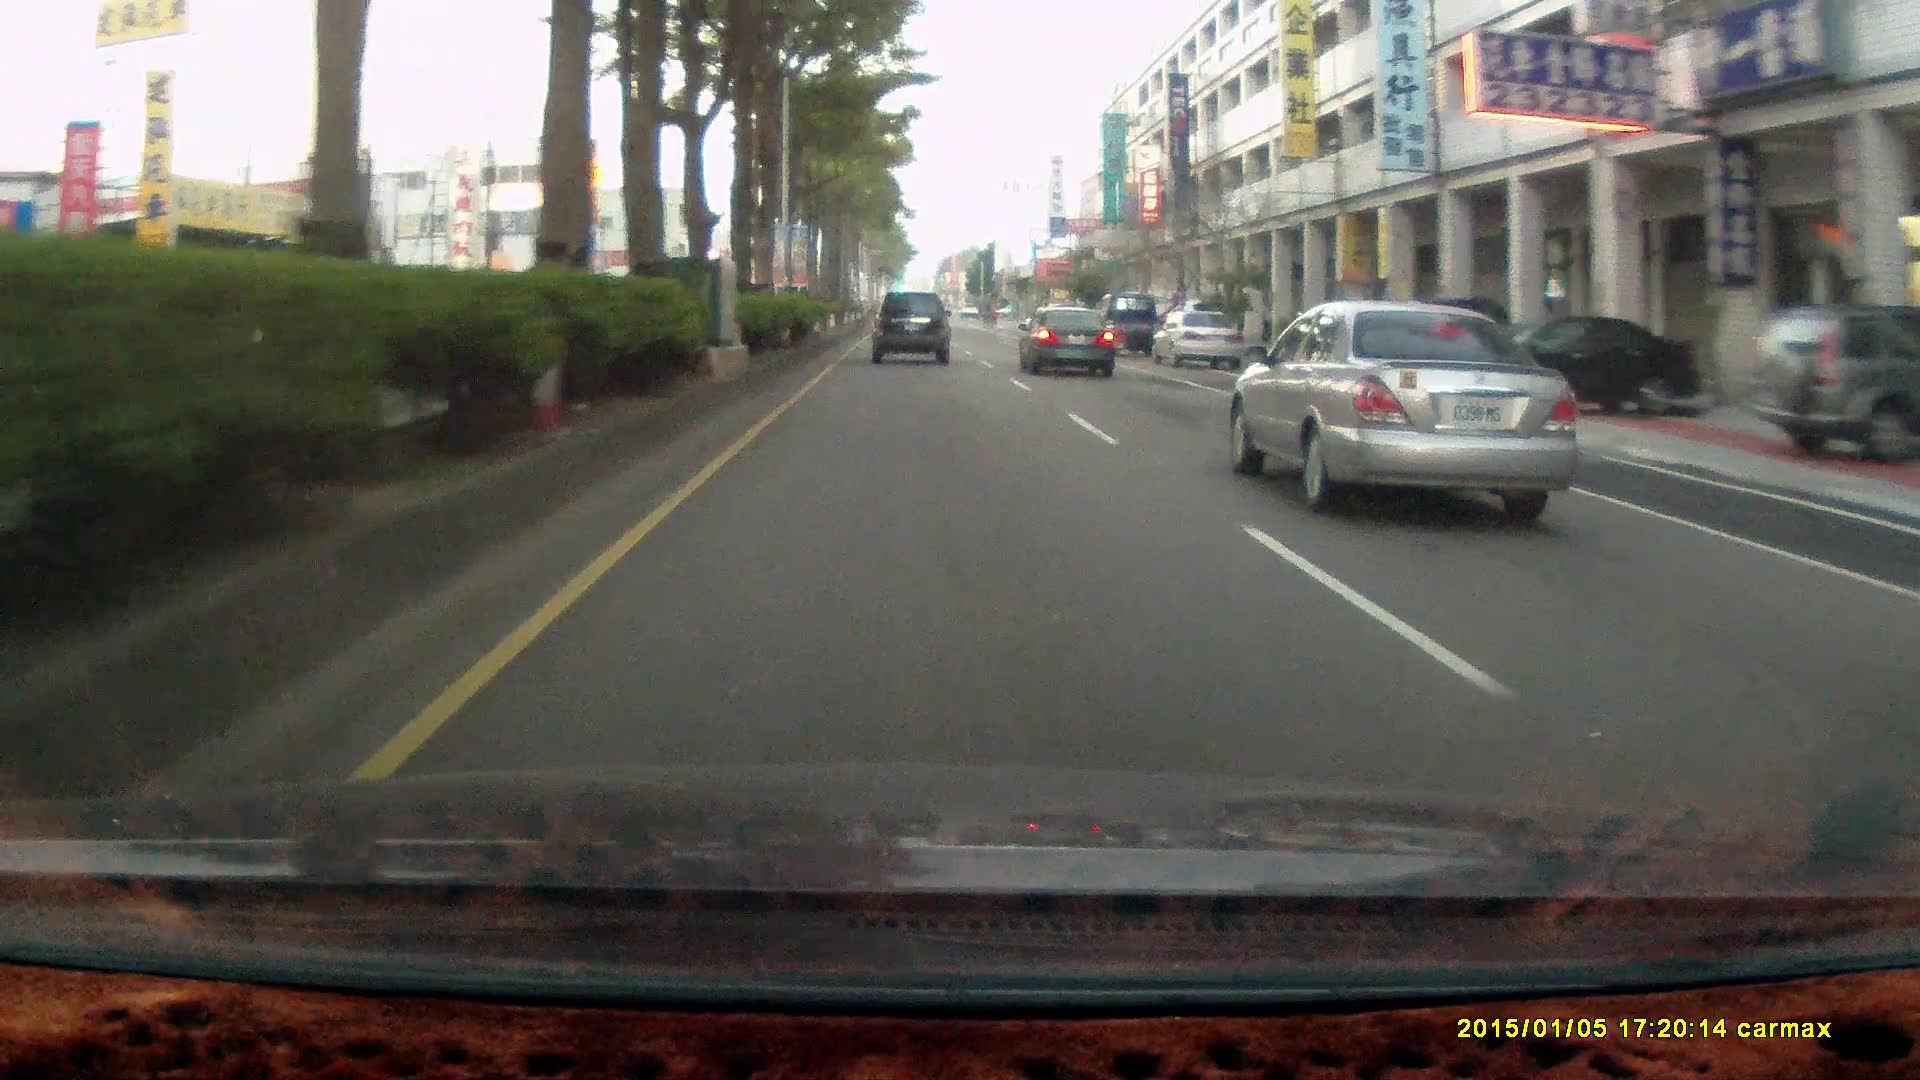vehicle: (1226, 295, 1586, 520), (1429, 313, 1708, 417), (1429, 313, 1706, 417), (1747, 301, 1920, 462), (1749, 301, 1920, 460), (1017, 305, 1120, 378), (1015, 305, 1114, 377), (872, 290, 953, 368), (868, 289, 951, 360), (1149, 309, 1244, 369), (1155, 315, 1249, 369), (1095, 289, 1158, 352)
